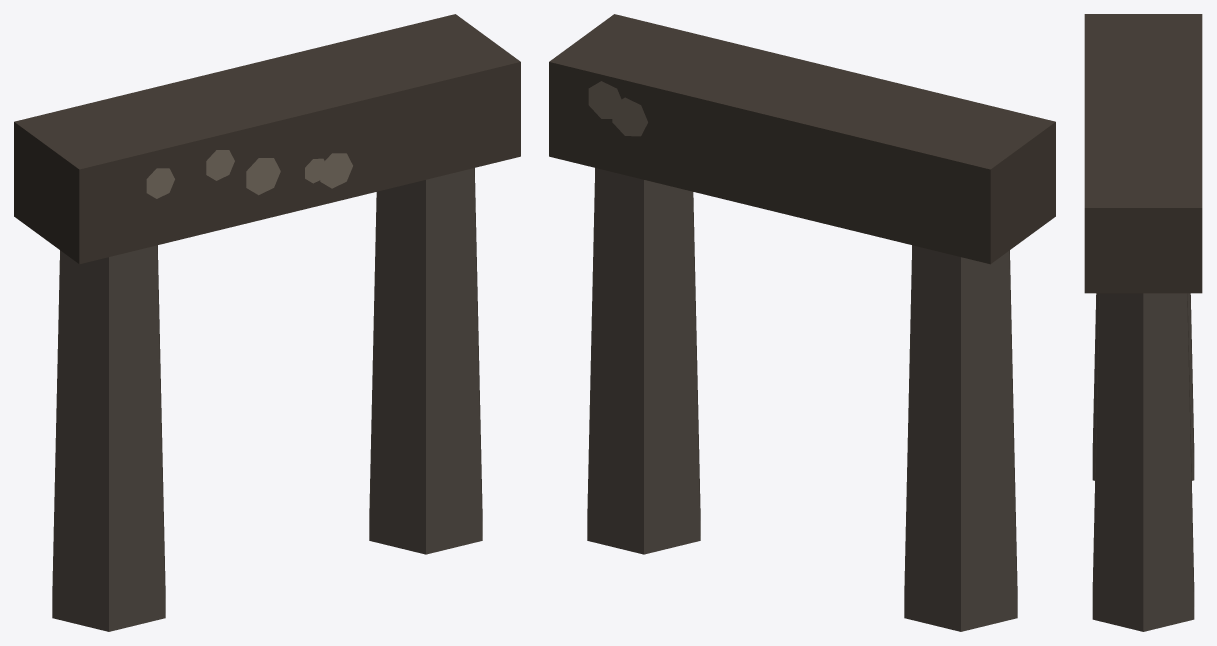
Rendered from doorframe_v0.glb.
3 views of the same model, side by side, from view 1: azimuth 30°, elevation 25°; view 2: azimuth 150°, elevation 25°; view 3: azimuth 270°, elevation 25° (orthographic). The views are drawn at different scales.
Visible parts, largest first — view 1: world; view 2: world; view 3: world.
Part boxes in pixels (box(x1,y1,x2,y2)): world: box(14, 14, 520, 631); world: box(549, 14, 1055, 631); world: box(1084, 14, 1202, 631).
Bounding box in the file's own units: 0.975 × 1 × 0.2525.
